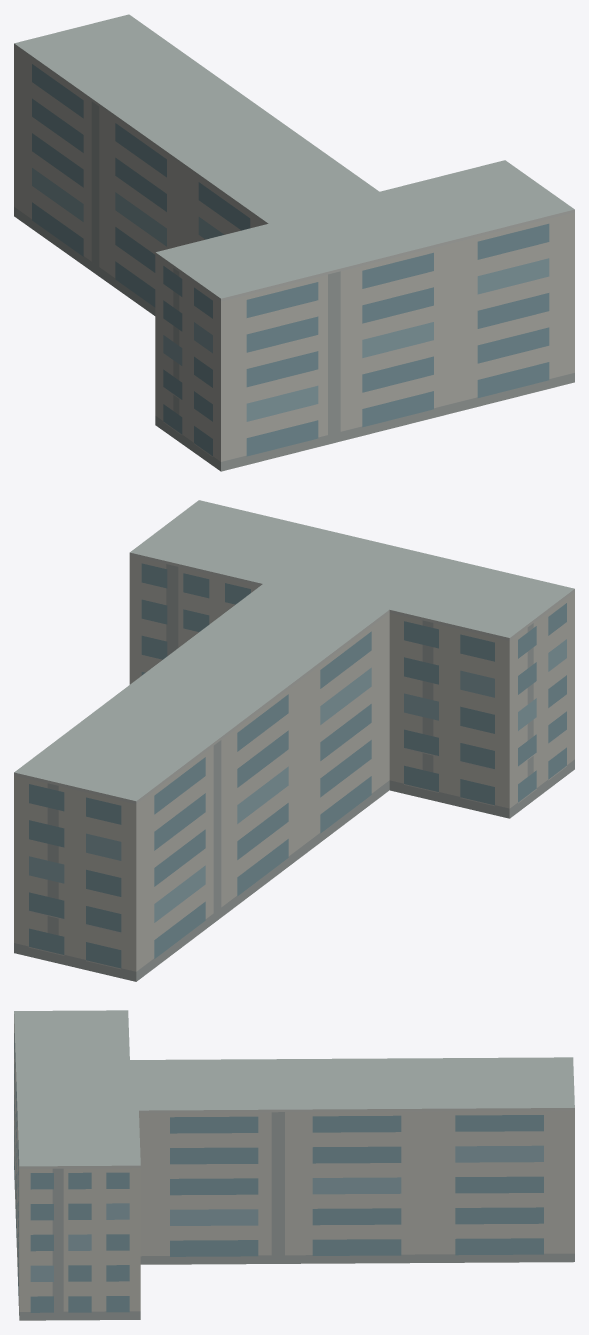
File: residential-811a235c-f8ad-41fe-bdf0-b7224de9c07b.glb
3 renders of one model, top to bottom at view 1: azimuth 30°, elevation 25°; view 2: azimuth 150°, elevation 25°; view 3: azimuth 270°, elevation 25°, orthographic. The views are drawn at different scales.
Parts seen in each view (by area): view 1: residential-811a235c-f8ad-41fe-bdf0-b7224de9c07b.tmp; view 2: residential-811a235c-f8ad-41fe-bdf0-b7224de9c07b.tmp; view 3: residential-811a235c-f8ad-41fe-bdf0-b7224de9c07b.tmp.
Part boxes in pixels (box(x1,y1,x2,y2)): residential-811a235c-f8ad-41fe-bdf0-b7224de9c07b.tmp: box(14, 14, 574, 471); residential-811a235c-f8ad-41fe-bdf0-b7224de9c07b.tmp: box(14, 500, 574, 981); residential-811a235c-f8ad-41fe-bdf0-b7224de9c07b.tmp: box(14, 1010, 574, 1320).
Size of the model in its own units: 33.1 by 15.25 by 50.27.
